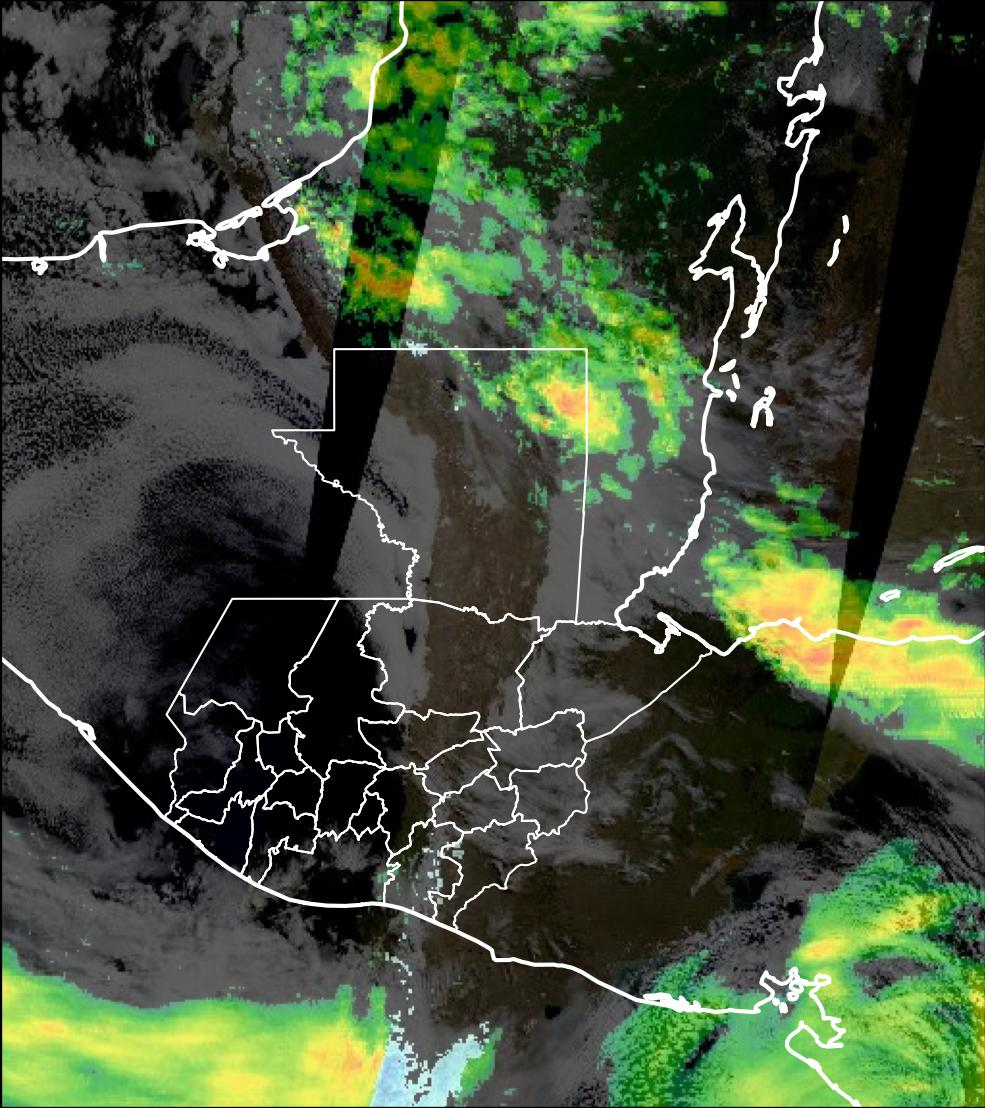precipitacion: (713, 567, 985, 744), (343, 246, 457, 318), (530, 372, 629, 453)
